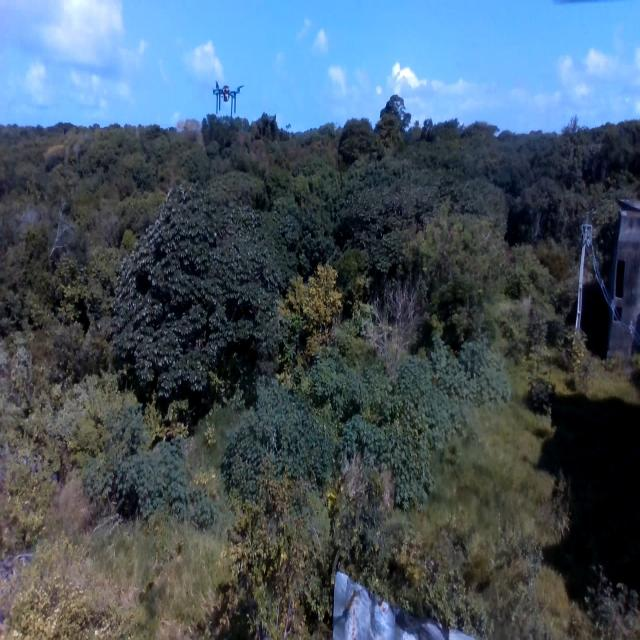-uav-: (203, 70, 249, 124)
